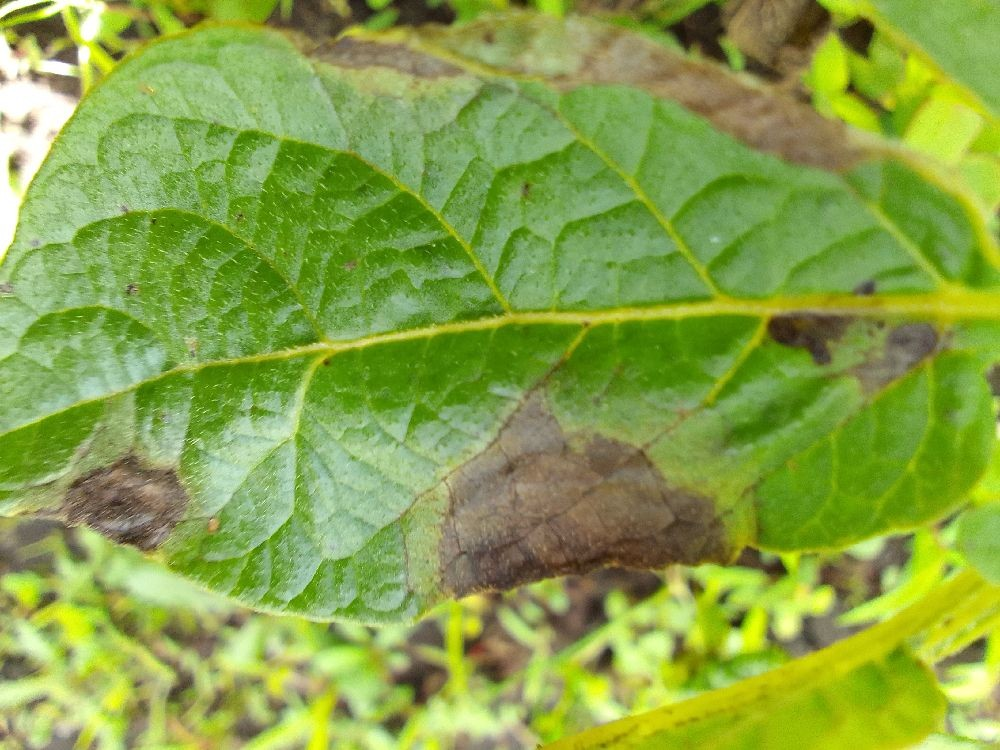late_blight: (367, 374, 799, 749), (508, 0, 927, 212), (0, 427, 211, 598), (239, 0, 488, 106)
